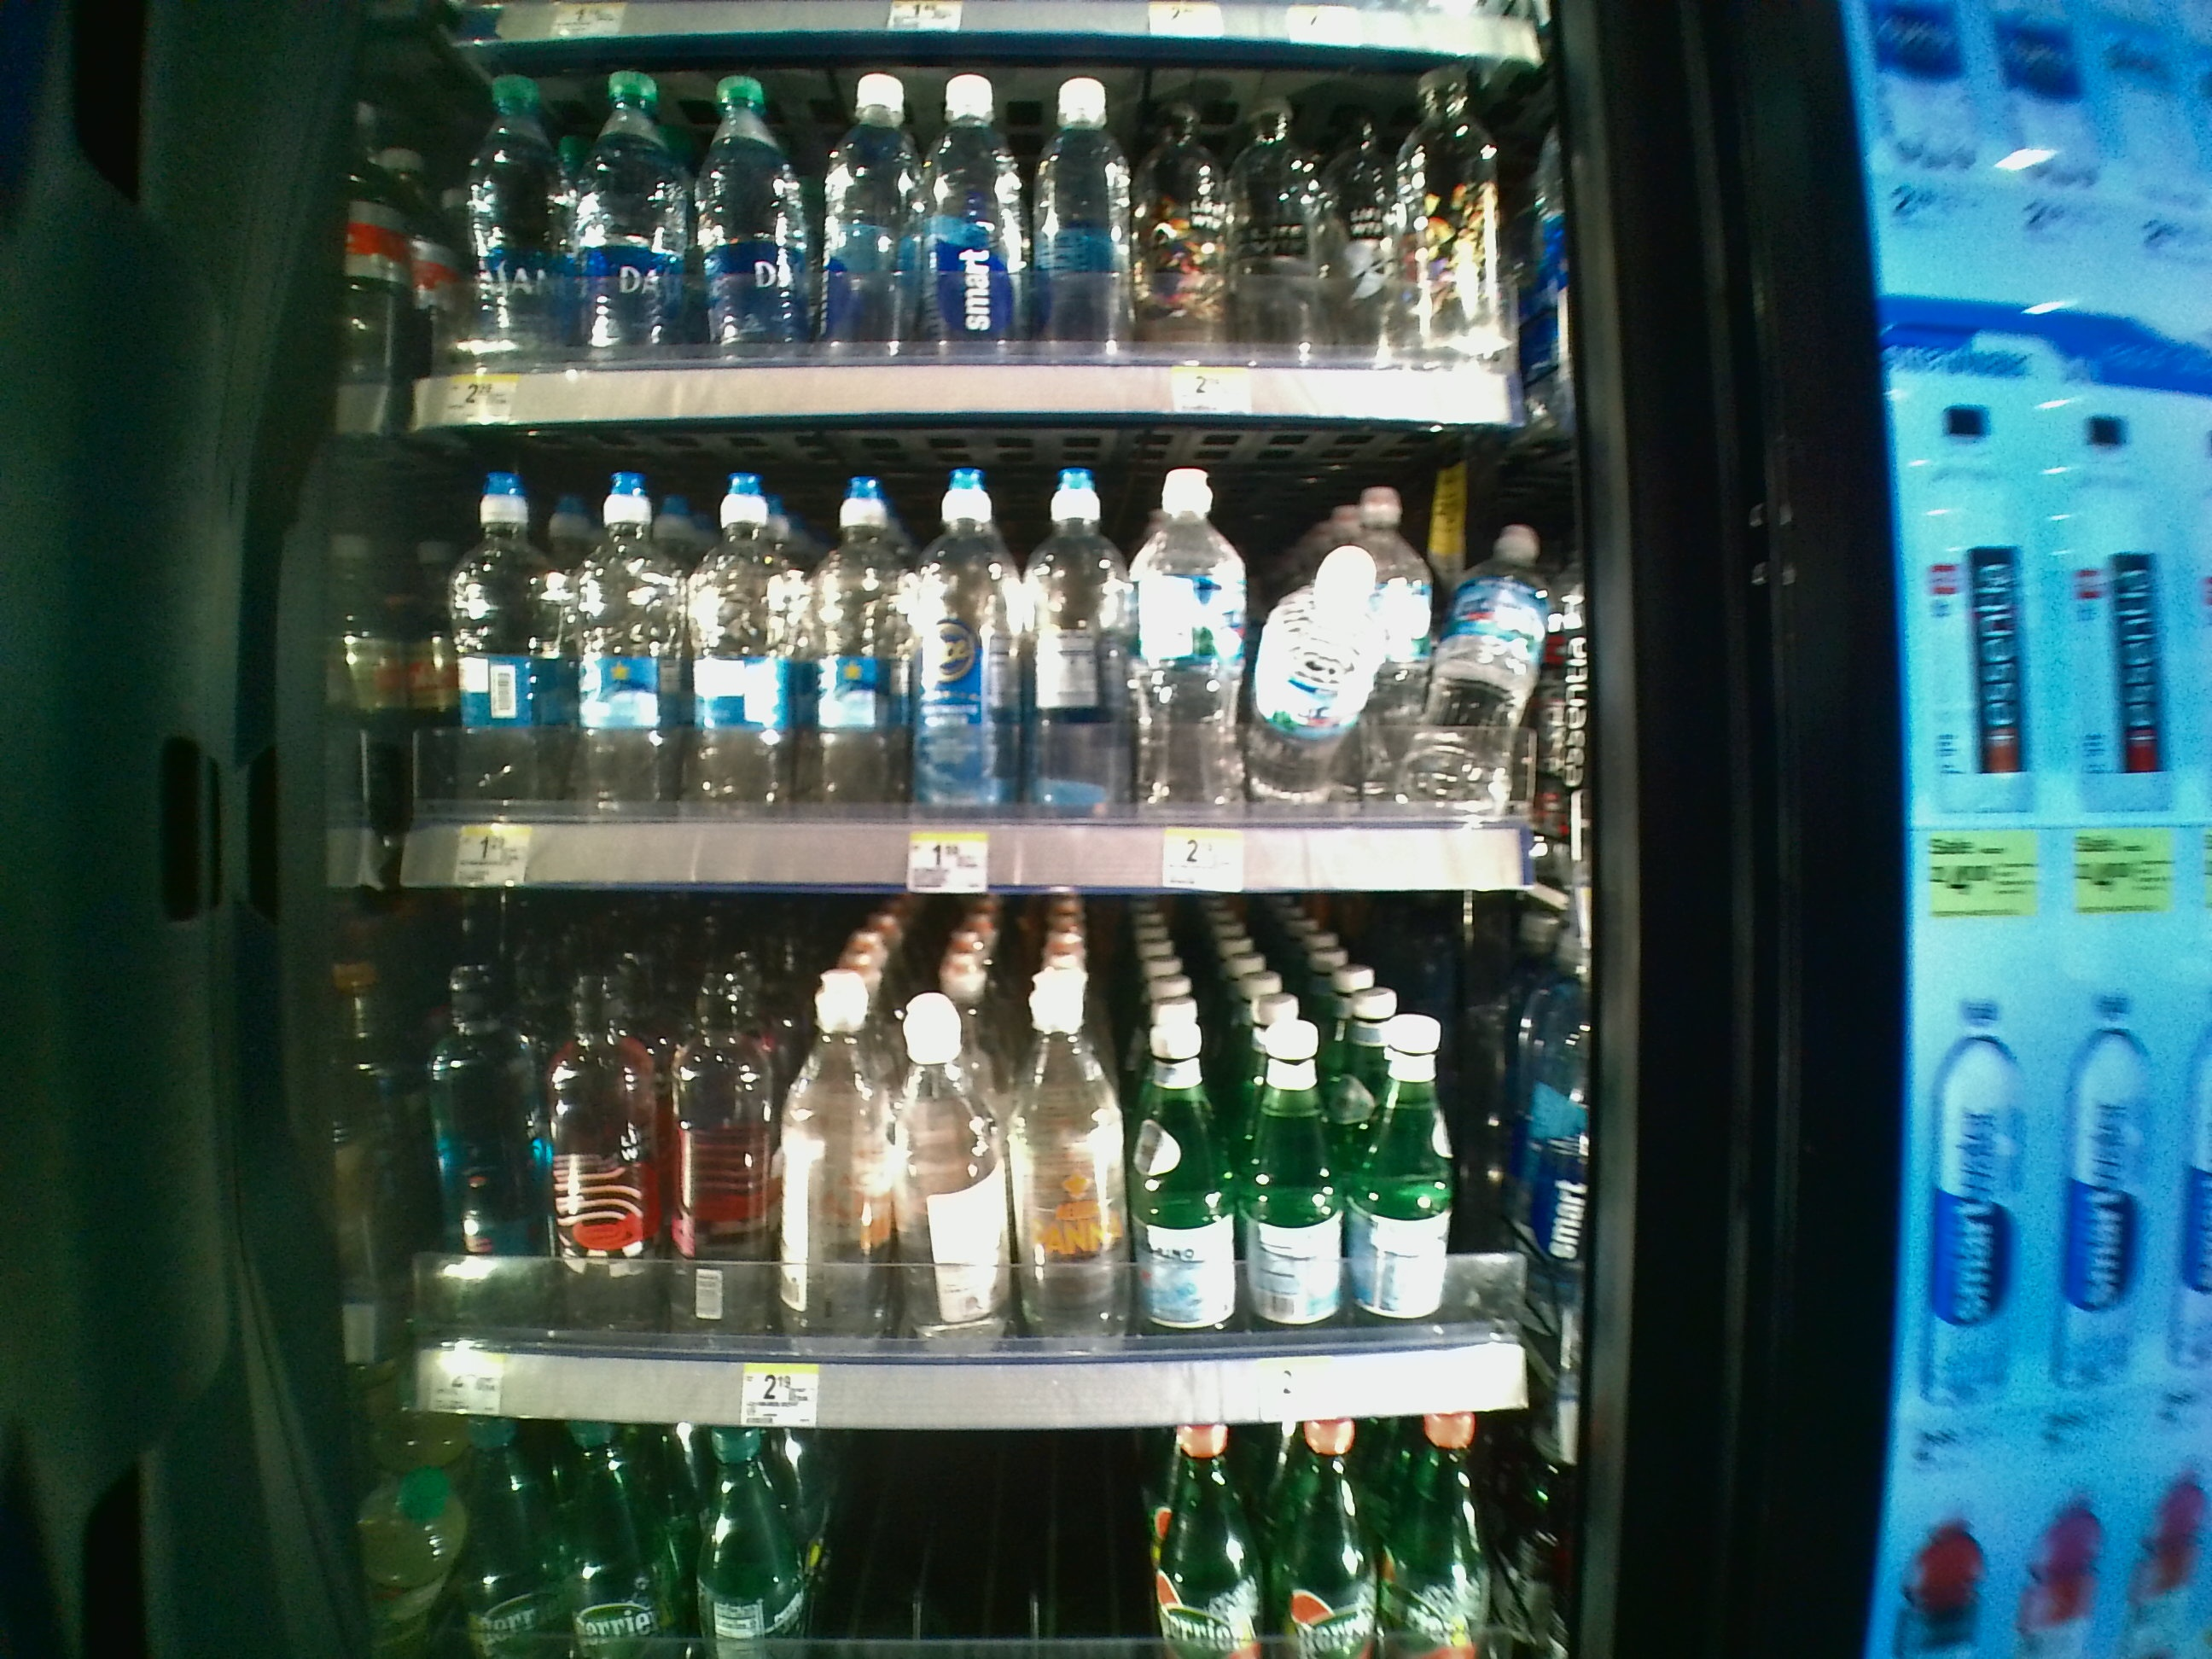Shelf: (348, 897, 1594, 1439), (354, 430, 1581, 897)
